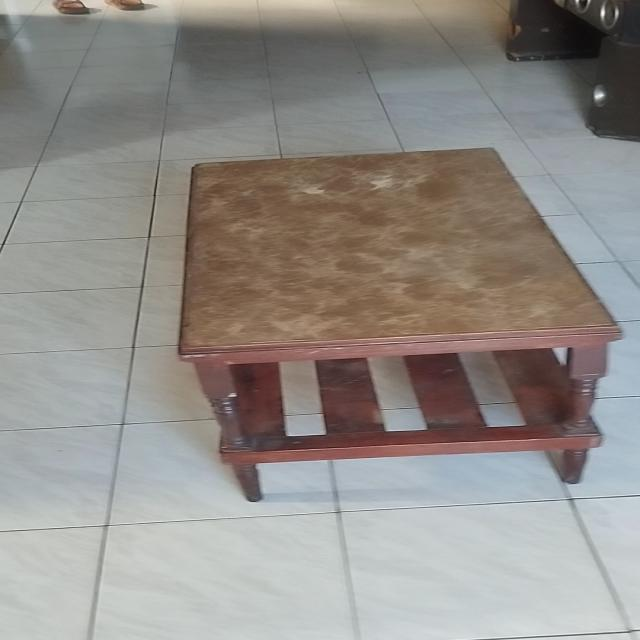table: (166, 142, 624, 502)
